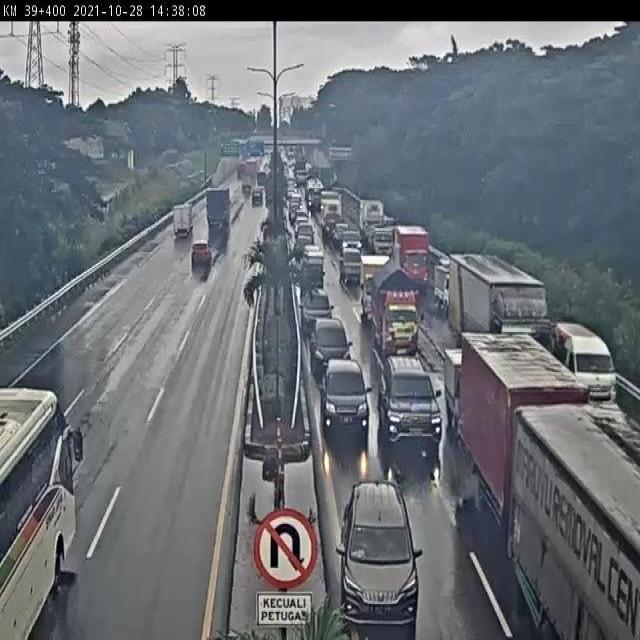car: (338, 479, 420, 612)
truck-l-: (450, 252, 549, 384)
truck-m-: (463, 335, 594, 525), (370, 263, 419, 353)
